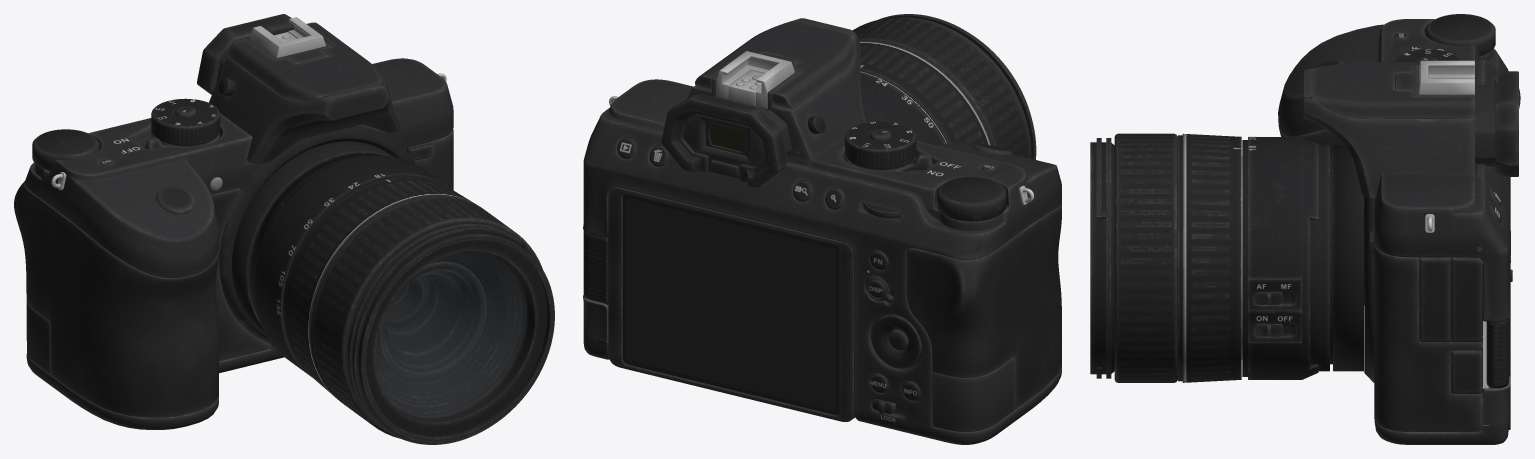
Rendered from camera-static.glb.
3 renders of one model, left to right at view 1: azimuth 30°, elevation 25°; view 2: azimuth 150°, elevation 25°; view 3: azimuth 270°, elevation 25°, orthographic. The views are drawn at different scales.
Parts seen in each view (by area): view 1: camera_dslr_base_realistic_01_lod0, camera_dslr_base_realistic_01_lod0_007, camera_dslr_base_realistic_01_opacity_lod0_003, camera_dslr_base_realistic_01_lod0_012, camera_dslr_base_realistic_01_lod0_008, camera_dslr_base_realistic_01_lod0_001.001, camera_dslr_base_realistic_01_lod0_003; view 2: camera_dslr_base_realistic_01_lod0, camera_dslr_base_realistic_01_lod0_010, camera_dslr_base_realistic_01_lod0_007, camera_dslr_base_realistic_01_lod0_008, camera_dslr_base_realistic_01_lod0_001.001, camera_dslr_base_realistic_01_lod0_003, camera_dslr_base_realistic_01_lod0_012, camera_dslr_base_realistic_01_lod0_011, camera_dslr_base_realistic_01_lod0_004; view 3: camera_dslr_base_realistic_01_lod0, camera_dslr_base_realistic_01_lod0_012, camera_dslr_base_realistic_01_lod0_007, camera_dslr_base_realistic_01_lod0_008, camera_dslr_base_realistic_01_lod0_001.001, camera_dslr_base_realistic_01_lod0_011, camera_dslr_base_realistic_01_lod0_003.
Boxes of the visible parts, box(x1,y1,x2,y2) form: camera_dslr_base_realistic_01_lod0: box(14, 14, 453, 429); camera_dslr_base_realistic_01_lod0_007: box(313, 198, 554, 444); camera_dslr_base_realistic_01_opacity_lod0_003: box(276, 173, 526, 416); camera_dslr_base_realistic_01_lod0_012: box(232, 141, 449, 376); camera_dslr_base_realistic_01_lod0_008: box(283, 177, 482, 403); camera_dslr_base_realistic_01_lod0_001.001: box(229, 22, 383, 100); camera_dslr_base_realistic_01_lod0_003: box(151, 98, 220, 145); camera_dslr_base_realistic_01_lod0: box(583, 18, 1061, 444); camera_dslr_base_realistic_01_lod0_010: box(608, 187, 854, 421); camera_dslr_base_realistic_01_lod0_007: box(852, 14, 1036, 159); camera_dslr_base_realistic_01_lod0_008: box(859, 41, 992, 145); camera_dslr_base_realistic_01_lod0_001.001: box(695, 20, 854, 108); camera_dslr_base_realistic_01_lod0_003: box(845, 121, 916, 169); camera_dslr_base_realistic_01_lod0_012: box(860, 72, 946, 145); camera_dslr_base_realistic_01_lod0_011: box(583, 230, 608, 304); camera_dslr_base_realistic_01_lod0_004: box(845, 153, 933, 171); camera_dslr_base_realistic_01_lod0: box(1278, 14, 1520, 444); camera_dslr_base_realistic_01_lod0_012: box(1242, 137, 1363, 379); camera_dslr_base_realistic_01_lod0_007: box(1090, 133, 1177, 382); camera_dslr_base_realistic_01_lod0_008: box(1177, 133, 1241, 382); camera_dslr_base_realistic_01_lod0_001.001: box(1312, 62, 1474, 118); camera_dslr_base_realistic_01_lod0_011: box(1486, 316, 1510, 388); camera_dslr_base_realistic_01_lod0_003: box(1393, 49, 1461, 61).
Size of what is drawn, in the model's own units: 0.3214 by 0.2247 by 0.2867.
3 materials, 2 textured.
